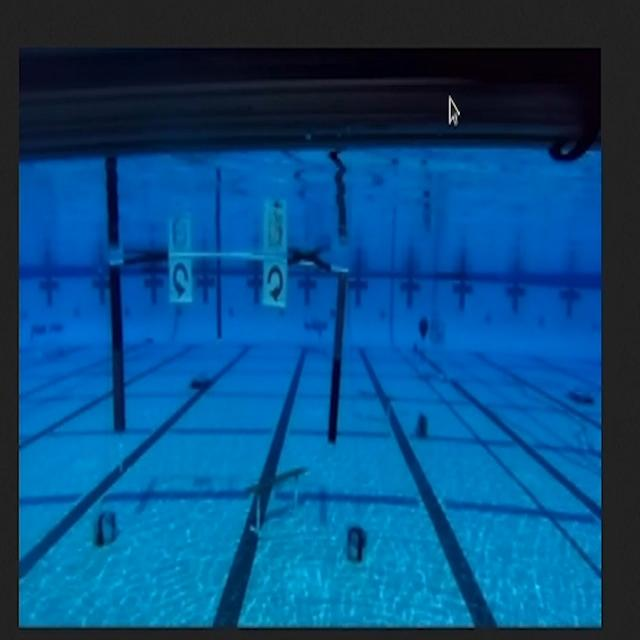Gate: (100, 235, 356, 464)
Path: (230, 455, 318, 546)
